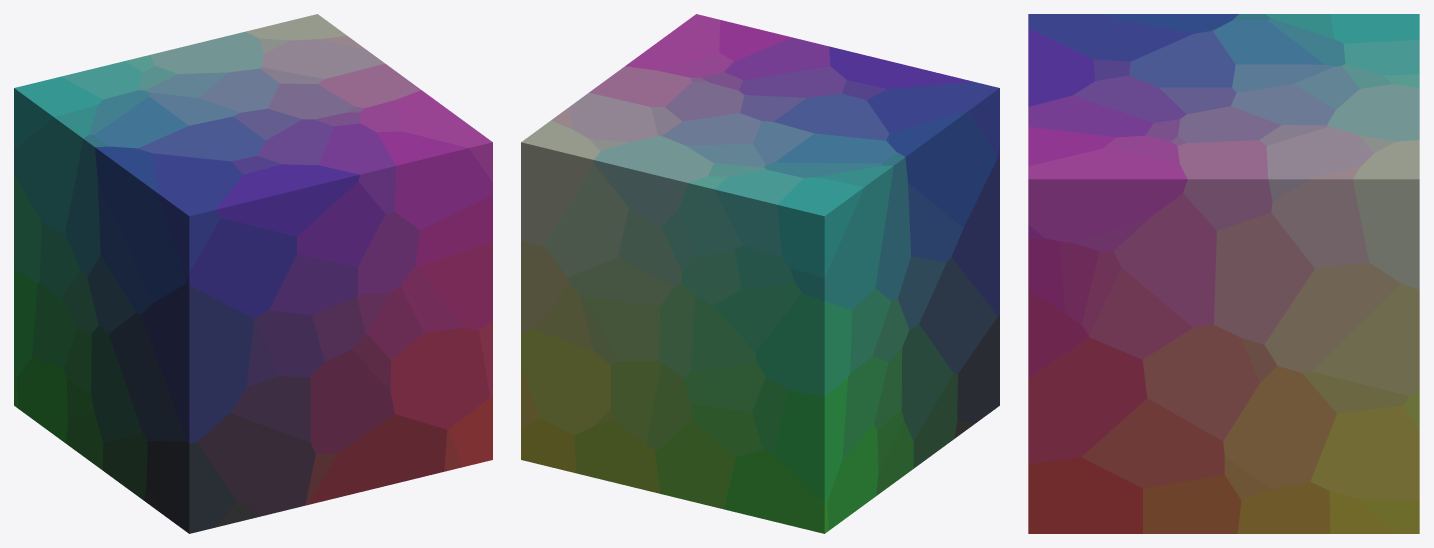
The picture shows the model from 3 angles, left to right: view 1: azimuth 30°, elevation 25°; view 2: azimuth 150°, elevation 25°; view 3: azimuth 270°, elevation 25°; orthographic projection. The views are drawn at different scales.
Parts seen in each view (by area): view 1: box_2; view 2: box_2; view 3: box_2.
Part boxes in pixels (x1=…): box_2: x1=14, y1=14, x2=492, y2=533; box_2: x1=521, y1=14, x2=999, y2=533; box_2: x1=1028, y1=14, x2=1419, y2=533.
Size of the model in its own units: 100 by 100 by 100.
